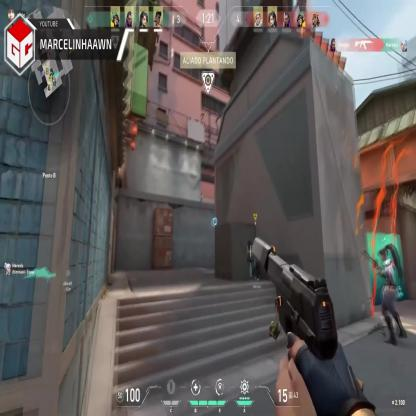enemy: (200, 192, 203, 205)
enemy_head: (201, 192, 202, 196)
